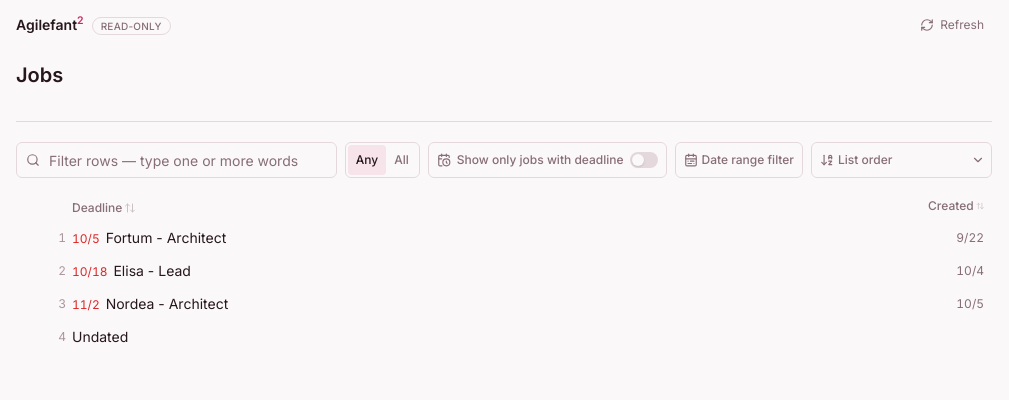
Test: on the page › filters by a deadline span, and says how many rows are left
The image size is (1009, 400).
Later steps or results of the test are not shown.
Expected: the text "Fortum - Architect" is shown, [106,228,226,248]
Click the button "Date range filter" at (739,160), box [674,142,803,178]
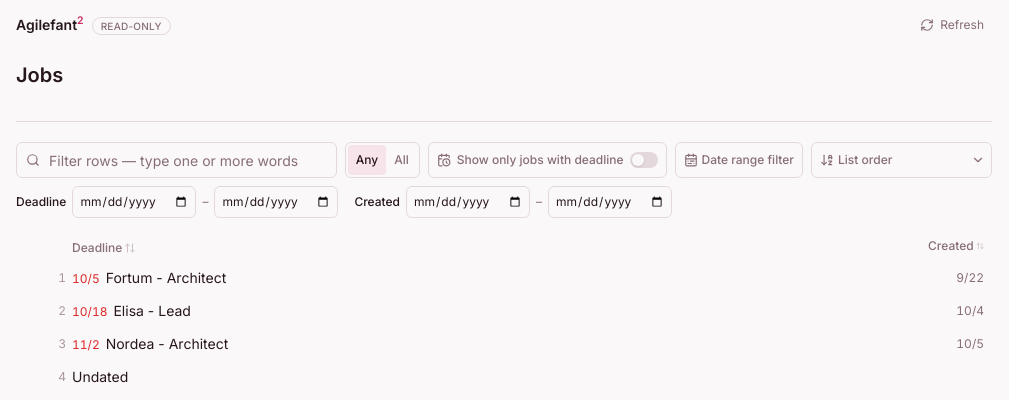
Type "2026-10-10" into the date field named "Deadline from" at (134,202), box [72,186,196,218]
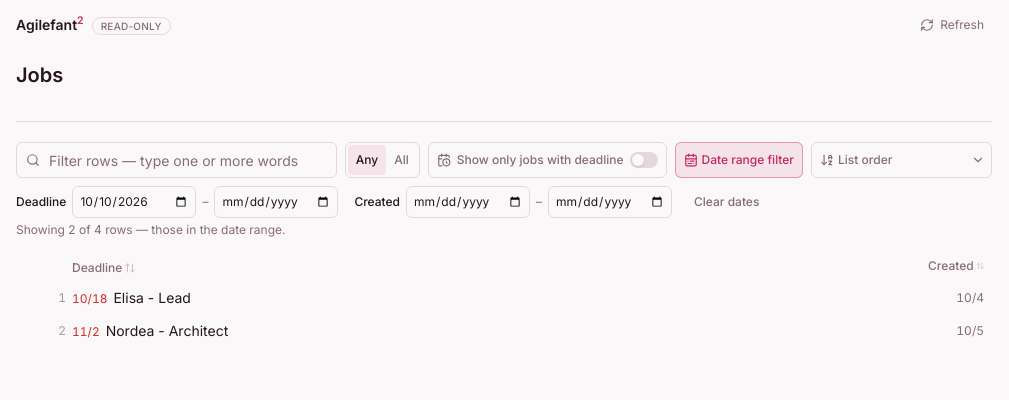
Result: the message reads "Showing 2 of 4 rows — those in the date range." at [16,222,286,237]
